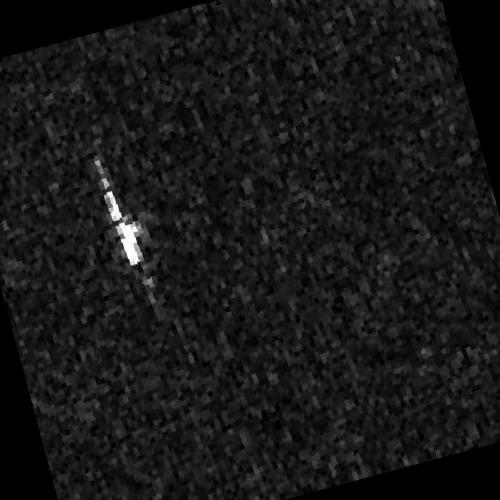ship: (94, 159, 143, 269)
